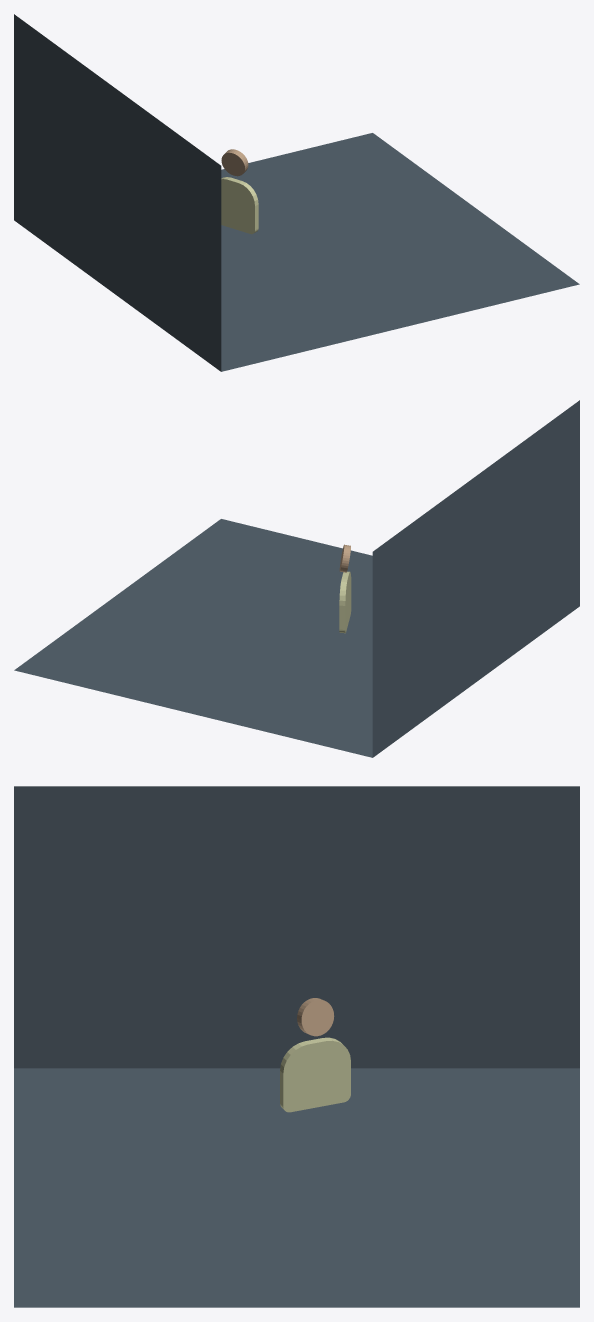
The model's file is user.gltf.
The picture shows the model from 3 angles, top to bottom: view 1: azimuth 30°, elevation 25°; view 2: azimuth 150°, elevation 25°; view 3: azimuth 270°, elevation 25°; orthographic projection. The views are drawn at different scales.
Visible parts, largest first — view 1: bg, object; view 2: bg, object; view 3: bg, object.
Part boxes in pixels (box(x1,y1,x2,y2)): bg: box(14, 14, 579, 371); object: box(221, 149, 258, 234); bg: box(14, 400, 579, 757); object: box(339, 544, 351, 633); bg: box(14, 786, 579, 1307); object: box(280, 998, 350, 1112).
Bounding box in the file's own units: 8 × 4.39 × 8.
